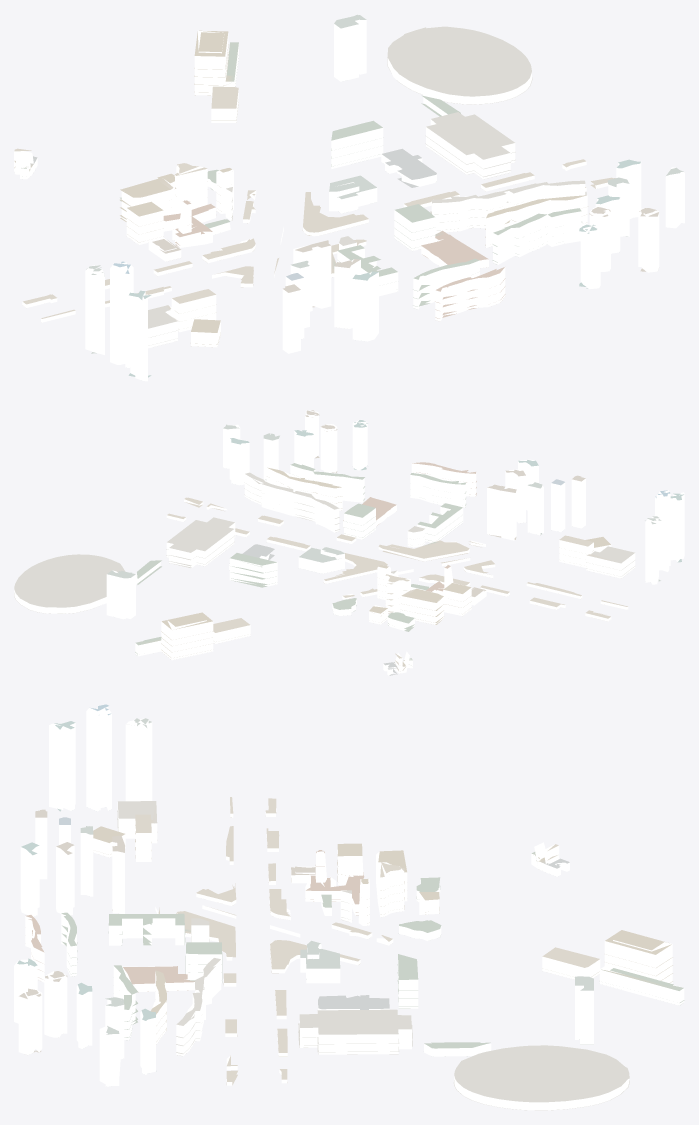
The model's file is buildings-5_2-coarse.glb.
3 renders of one model, top to bottom at view 1: azimuth 30°, elevation 25°; view 2: azimuth 150°, elevation 25°; view 3: azimuth 270°, elevation 25°, orthographic. The views are drawn at different scales.
Parts seen in each view (by area): view 1: block_5_2_residential, block_5_2_roof, block_5_2_office; view 2: block_5_2_residential, block_5_2_roof, block_5_2_office; view 3: block_5_2_roof, block_5_2_residential, block_5_2_office.
Boxes of the visible parts, <box> form: block_5_2_residential: <box>14,30,608,348</box>; block_5_2_roof: <box>14,14,683,377</box>; block_5_2_office: <box>85,19,684,381</box>; block_5_2_residential: <box>14,463,635,675</box>; block_5_2_roof: <box>14,410,683,675</box>; block_5_2_office: <box>106,410,684,619</box>; block_5_2_roof: <box>17,704,684,1110</box>; block_5_2_residential: <box>25,802,684,1110</box>; block_5_2_office: <box>14,705,593,1086</box>.
Bounding box in the file's own units: 667 × 101 × 608.
